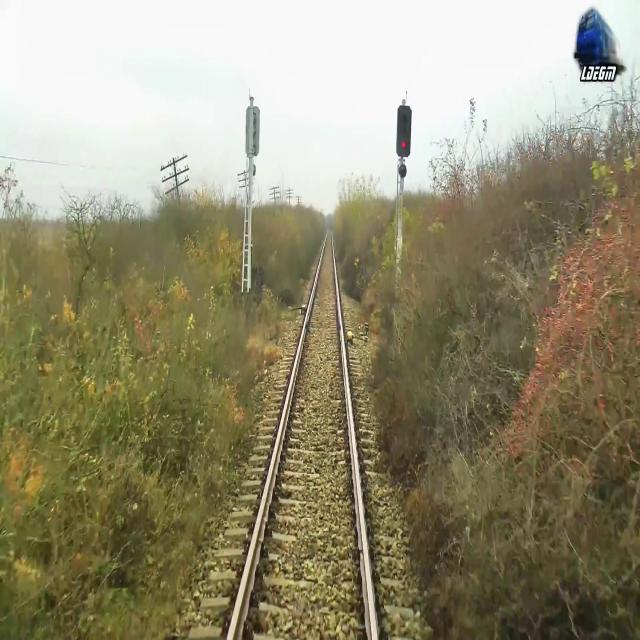rail-track: (231, 233, 372, 639)
